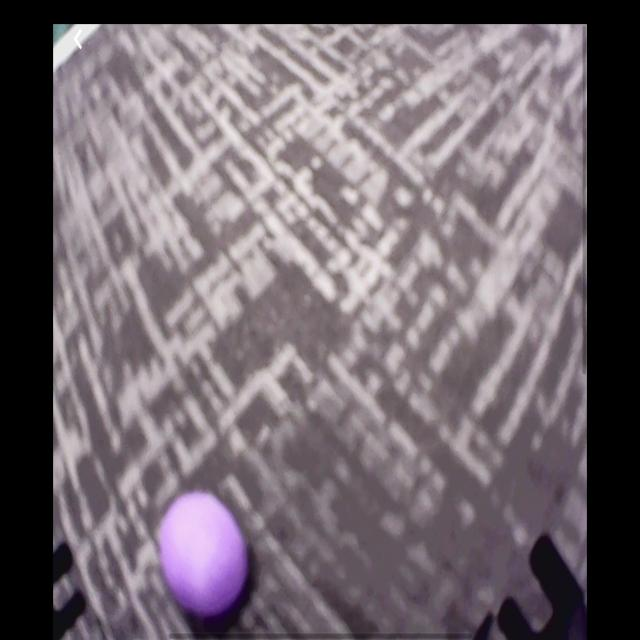ball: (162, 491, 250, 615)
